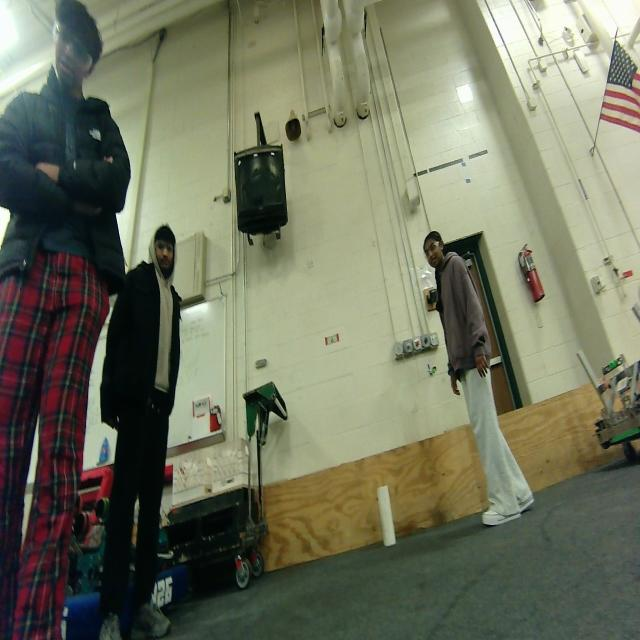coral: (375, 478, 400, 553)
